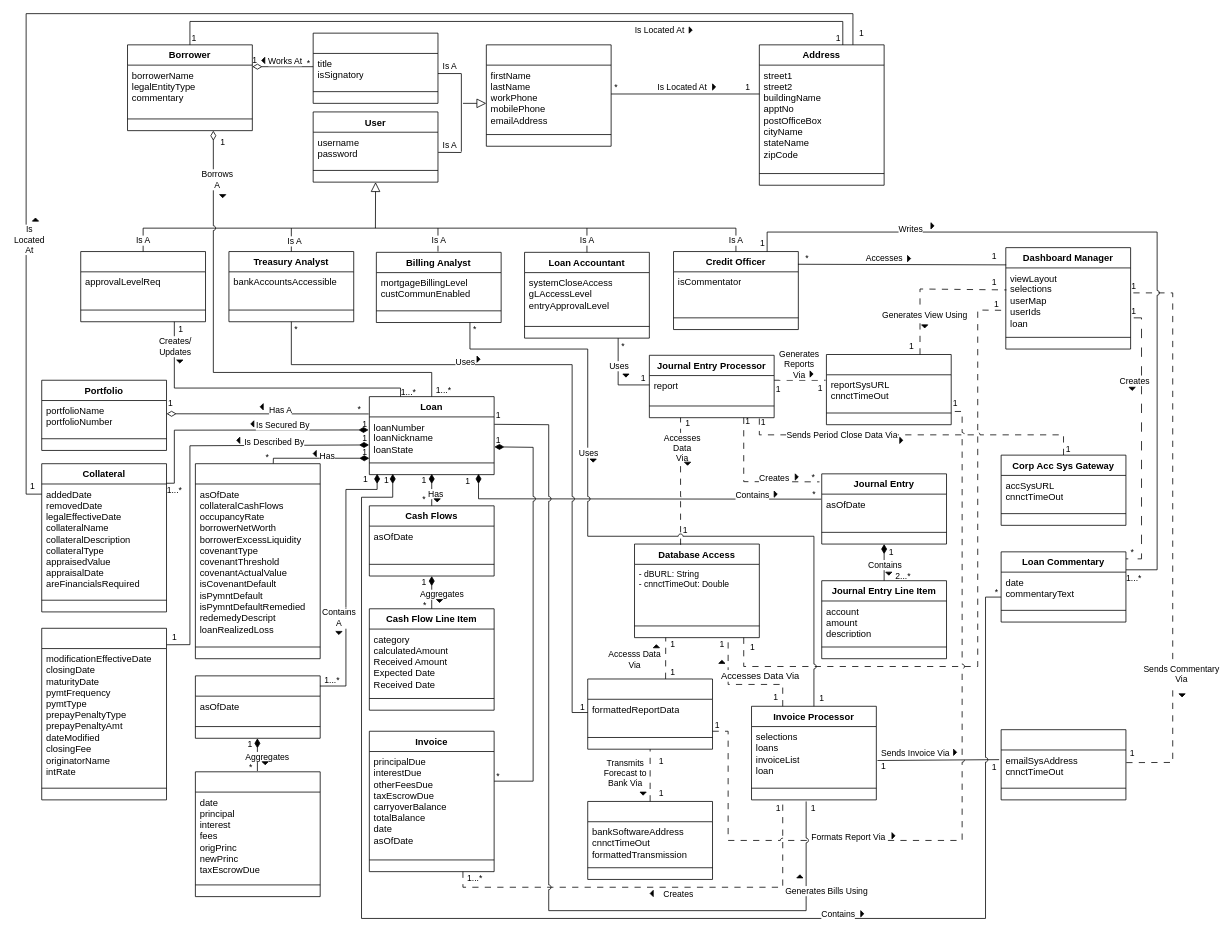
This 1232x941 diagram has some shape labels left out. The box of each missing label's shape, as (x1, y1, x2, y2) in pixels:
Amortization Line Item: (195, 771, 320, 897)
Amortization Schedule: (195, 675, 320, 738)
Bank Software Gateway: (587, 801, 713, 879)
Customer Contact: (312, 32, 438, 103)
Email Gateway: (1000, 729, 1126, 800)
Financial Info: (195, 463, 320, 659)
Loan Analyst: (80, 251, 206, 322)
Loan Details: (41, 628, 167, 800)
Person: (486, 44, 611, 146)
Reporting System Gateway: (826, 354, 951, 425)
Treasury Report Processor: (587, 678, 713, 749)
